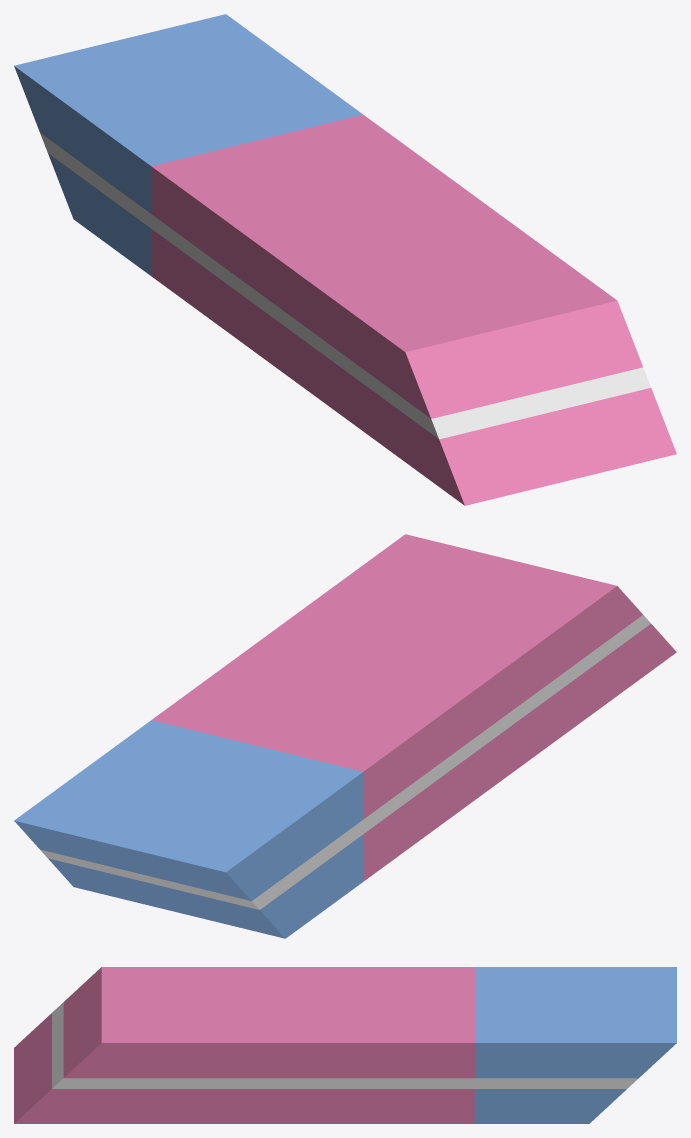
Rendered from Eraser by GkStudio - hBxgNjckbq.glb.
3 renders of one model, top to bottom at view 1: azimuth 30°, elevation 25°; view 2: azimuth 150°, elevation 25°; view 3: azimuth 270°, elevation 25°, orthographic. The views are drawn at different scales.
Visible parts, largest first — view 1: Cube; view 2: Cube; view 3: Cube.
Boxes of the visible parts, x1,y1,x2,y2 form: Cube: [14, 14, 676, 505]; Cube: [14, 534, 676, 938]; Cube: [14, 967, 676, 1123].
Size of the model in its own units: 1.64 by 0.8152 by 6.06.
